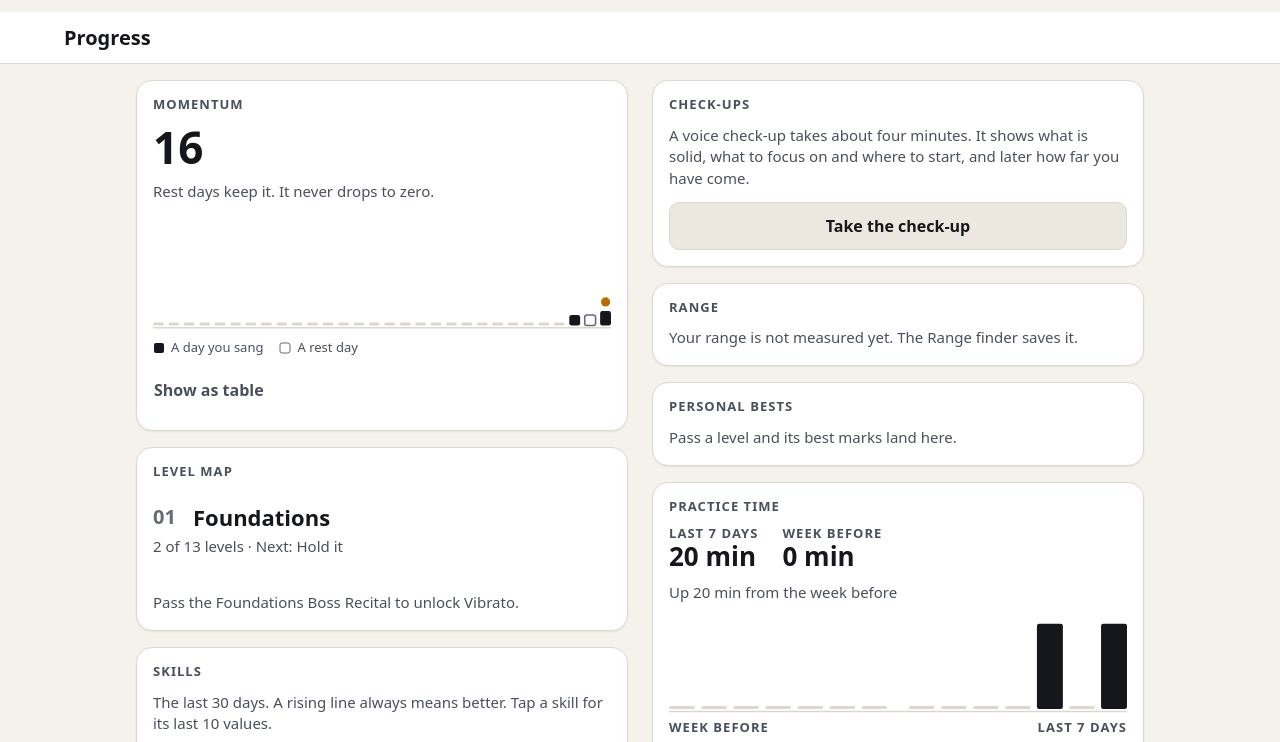
it: Dashboard: the numbers behind the charts › gives Momentum a "Show as table" toggle that swaps the bars for the days
Expected: the picture named "Momentum over the last 30 days. Today 16 out of 100." is shown, [153,214,611,330]
Step 1. Click the button "Show as table" below "A day you sang" → click(209, 390), box [145,366,273,414]
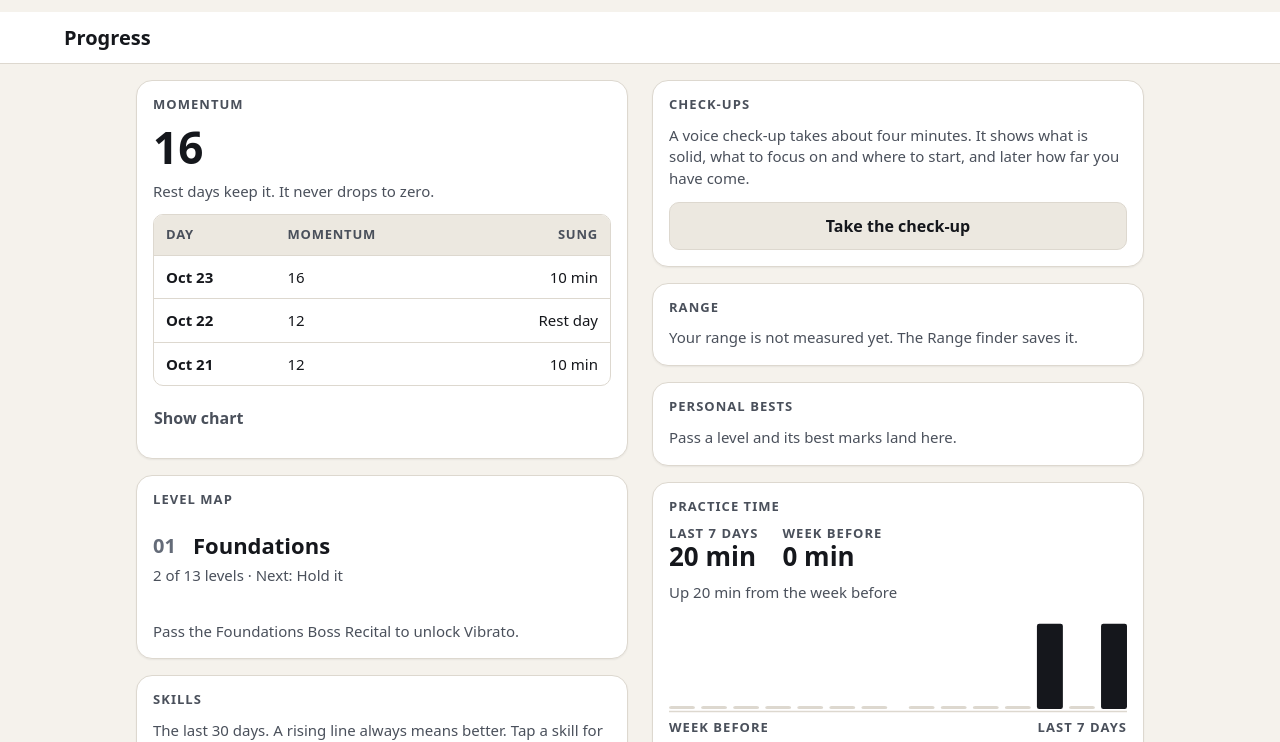
Expected: the button "Show chart" is shown, [145,394,252,442]
